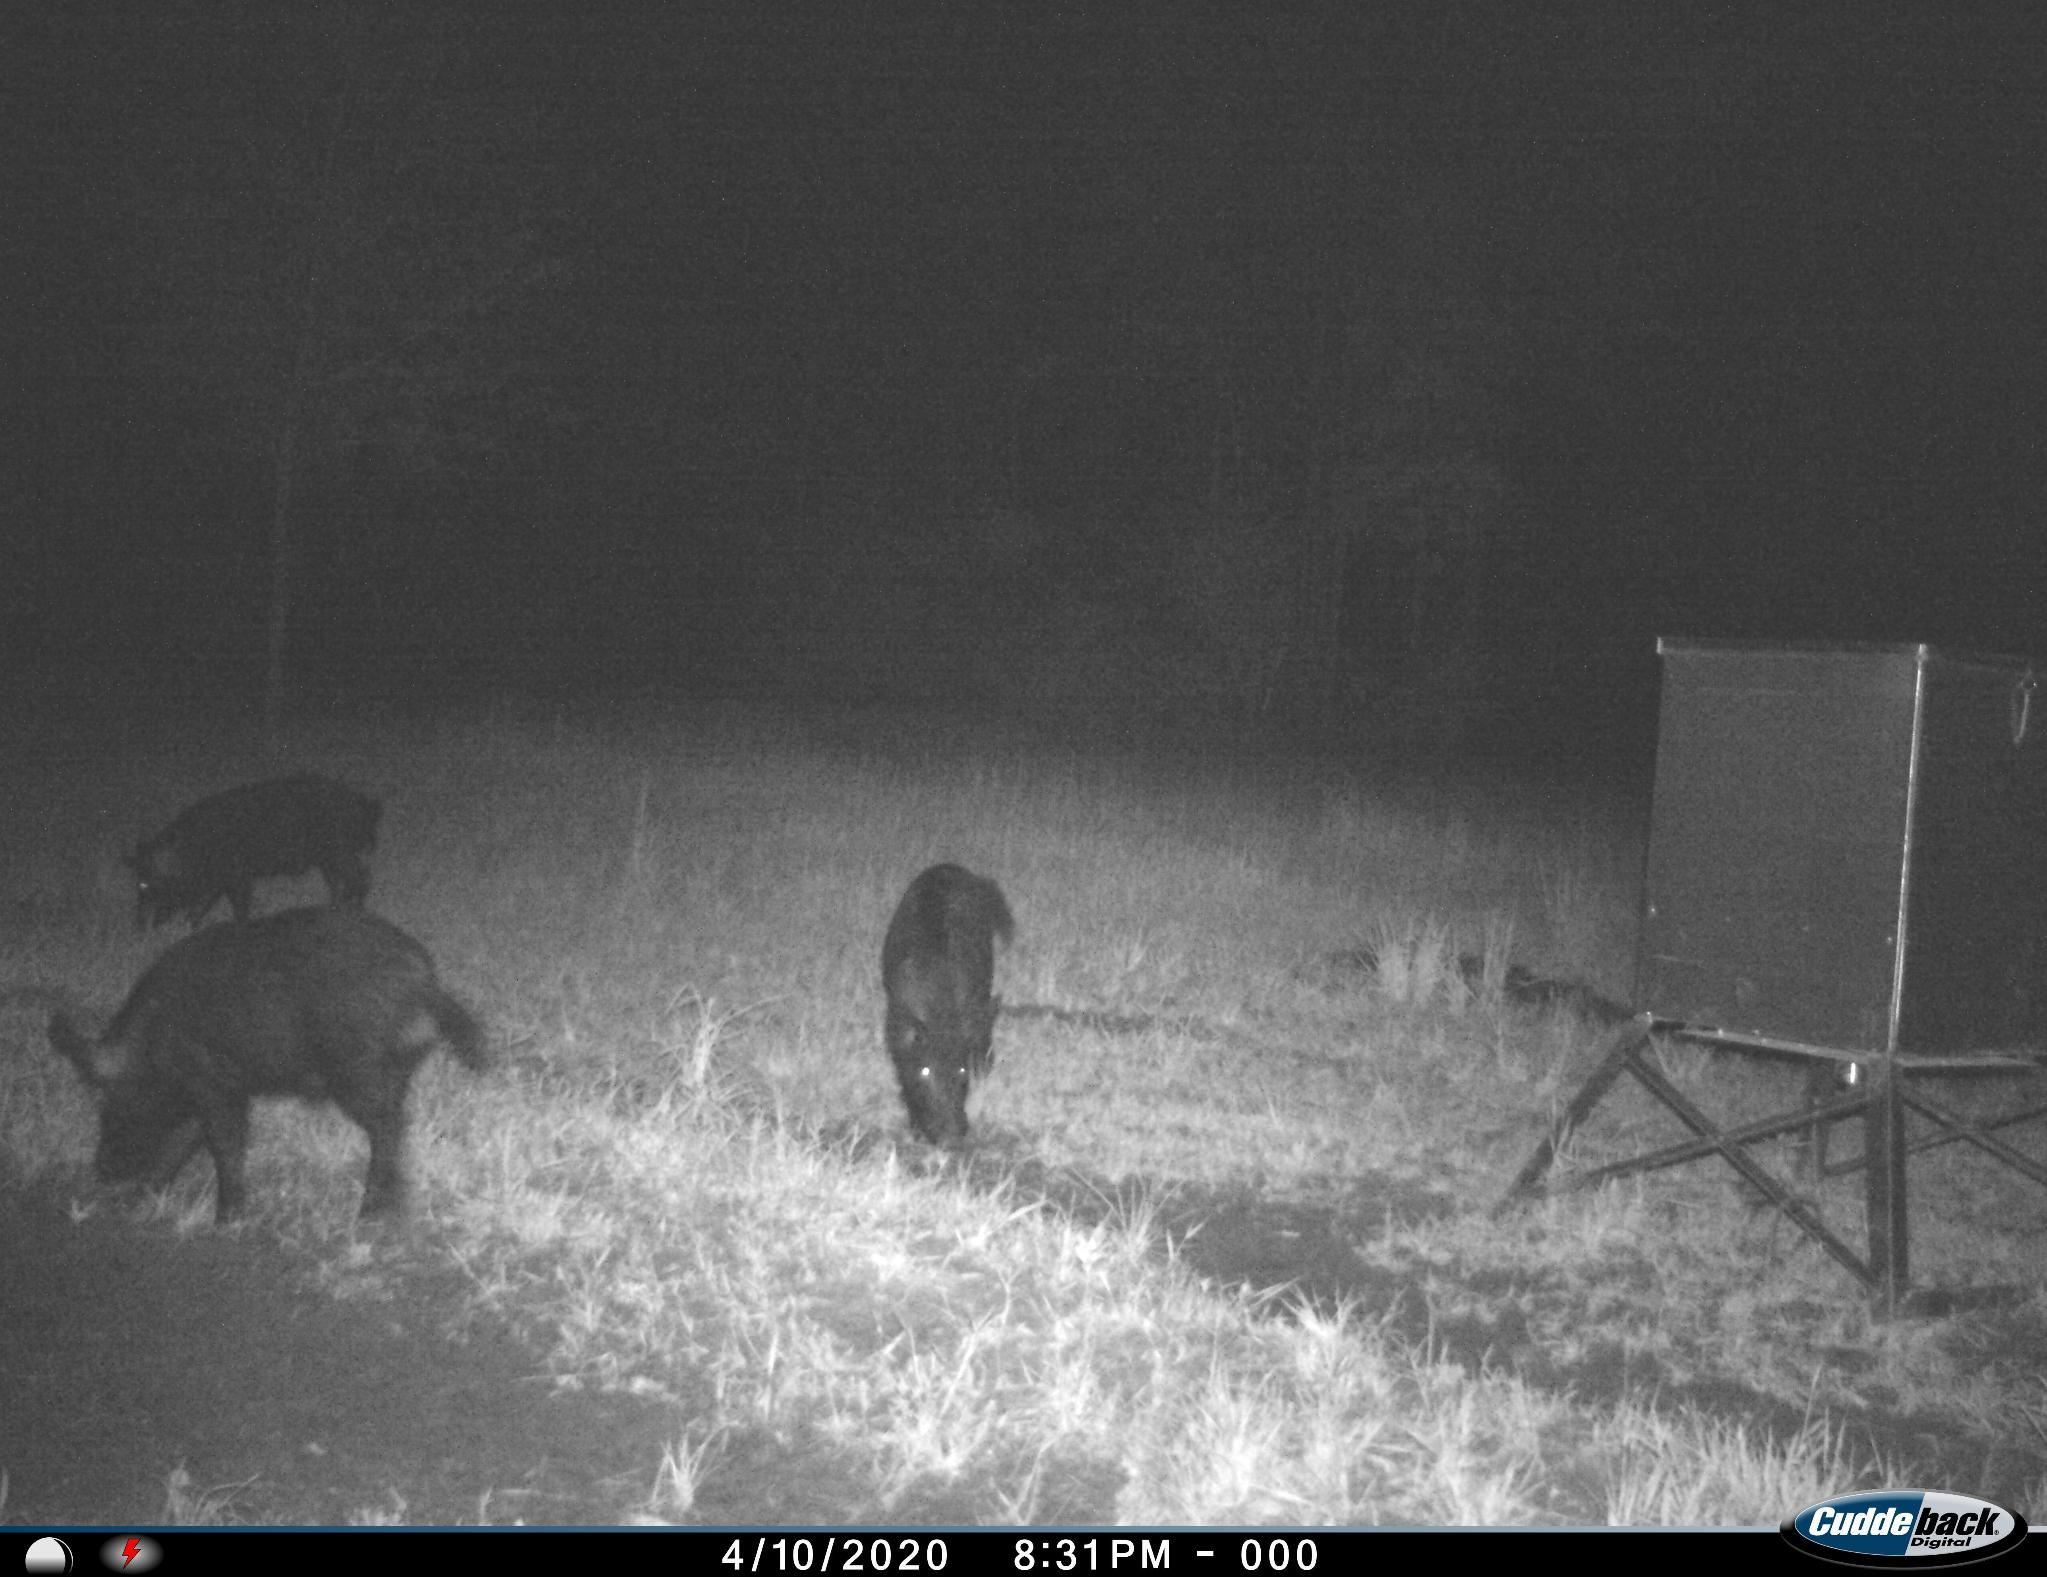Hog: (35, 901, 502, 1244), (863, 855, 1033, 1161), (116, 765, 389, 929)
